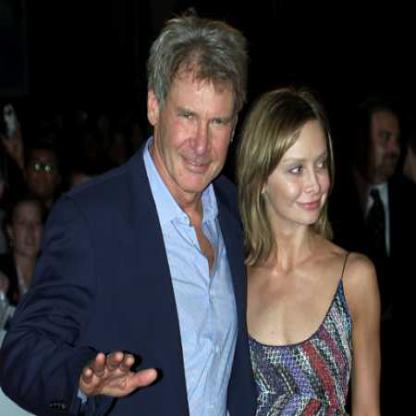face: (159, 37, 240, 195), (263, 102, 335, 230), (362, 102, 406, 182), (15, 200, 46, 257), (29, 146, 57, 197)
